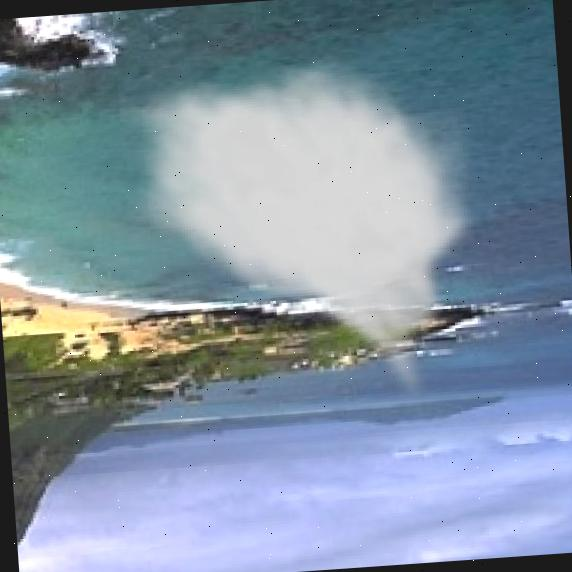smoke: (114, 47, 494, 422)
